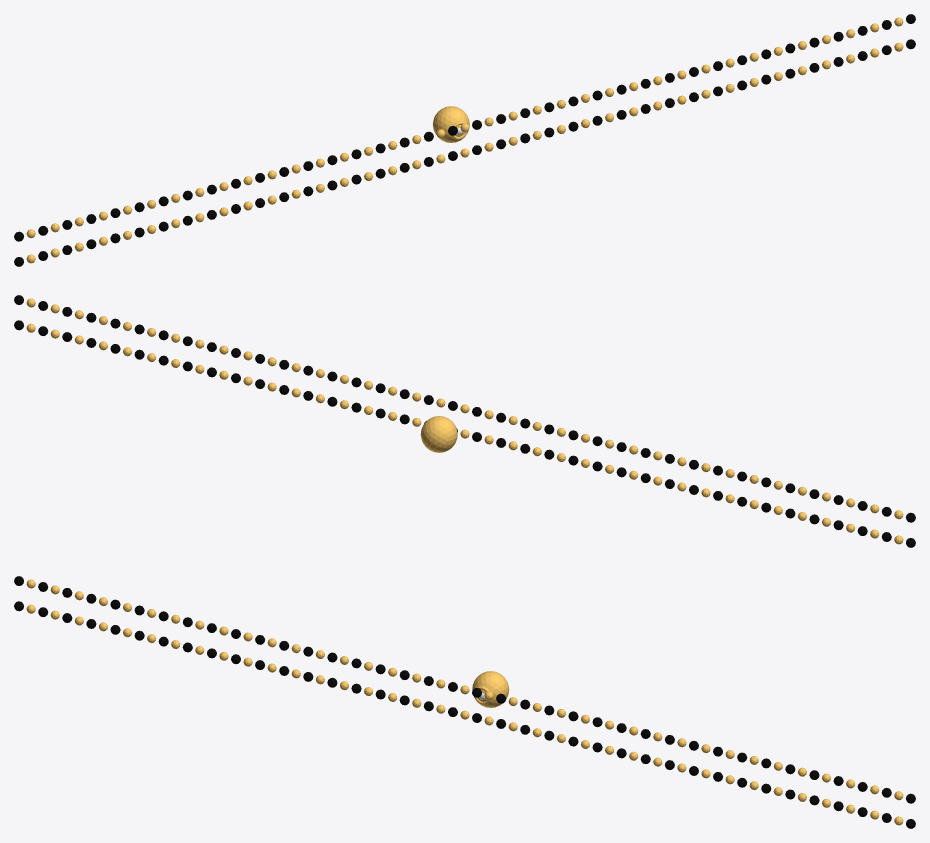
The model's file is mangalsutra_traditional_short.glb.
3 views of the same model, one above another, from view 1: azimuth 30°, elevation 25°; view 2: azimuth 150°, elevation 25°; view 3: azimuth 330°, elevation 25° (orthographic).
Parts seen in each view (by area): view 1: world; view 2: world; view 3: world.
Part boxes in pixels (x1,y1,x2,y2): world: [14, 14, 915, 266]; world: [14, 295, 915, 547]; world: [14, 576, 915, 828].
Size of the model in its own units: 0.4484 by 0.0164 by 0.0272.
1 material, 1 textured.
